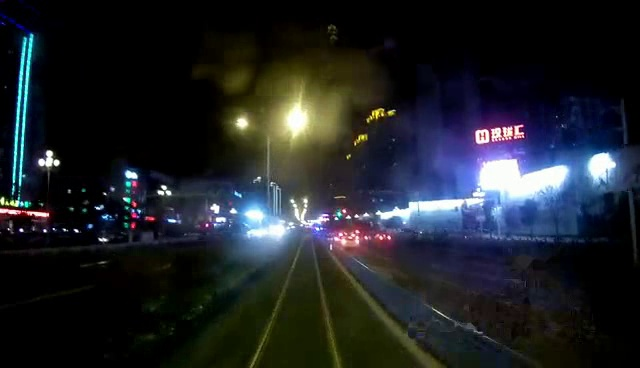car: (336, 232, 361, 251), (373, 231, 395, 248)
